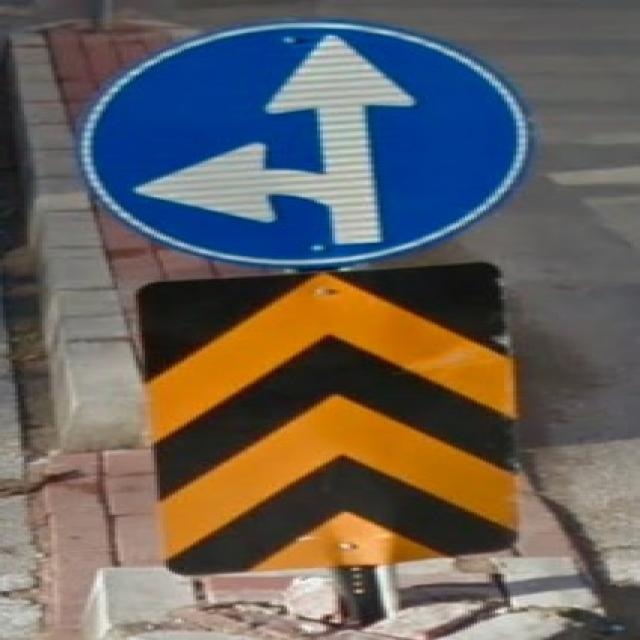Straight or Left: (83, 24, 530, 269)
